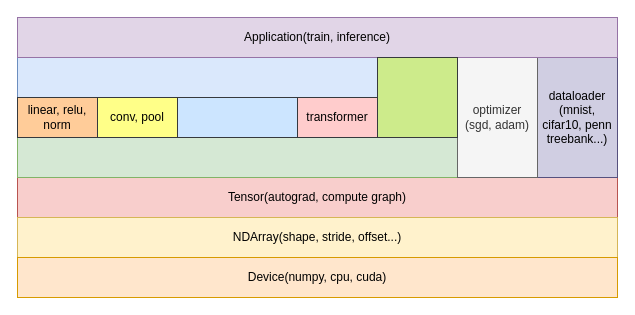
This 635x315 diagram has some shape labels left out. The shapes that lost their labels are listed below. From the top down, each one's box as (x1, y1, x2, y2) in pixels, then its label:
(16, 56, 378, 98): model(resnet, language model...)
(376, 56, 458, 138): loss function (cross entropy...)
(176, 96, 298, 138): sequence(rnn, lstm)
(16, 136, 458, 178): operator(+, -, *, /, reshape, permute, broadcast...)
